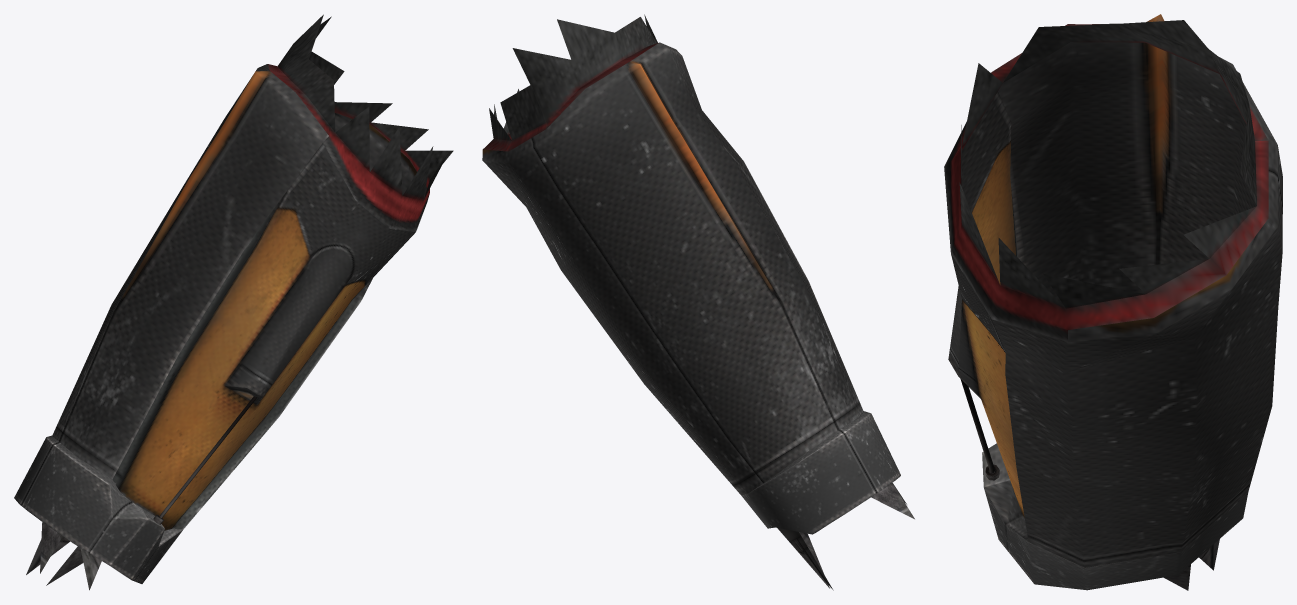
Rendered from gordon_antebrazo_der.obj.
The picture shows the model from 3 angles, left to right: view 1: azimuth 30°, elevation 25°; view 2: azimuth 150°, elevation 25°; view 3: azimuth 270°, elevation 25°; orthographic projection. The views are drawn at different scales.
Parts seen in each view (by area): view 1: gordon_antebrazo_der; view 2: gordon_antebrazo_der; view 3: gordon_antebrazo_der.
Boxes of the visible parts, bbox=[...] form: gordon_antebrazo_der: bbox=[14, 14, 453, 590]; gordon_antebrazo_der: bbox=[482, 14, 914, 590]; gordon_antebrazo_der: bbox=[944, 14, 1282, 590].
Size of the model in its own units: 0.1951 by 0.2317 by 0.0913.
